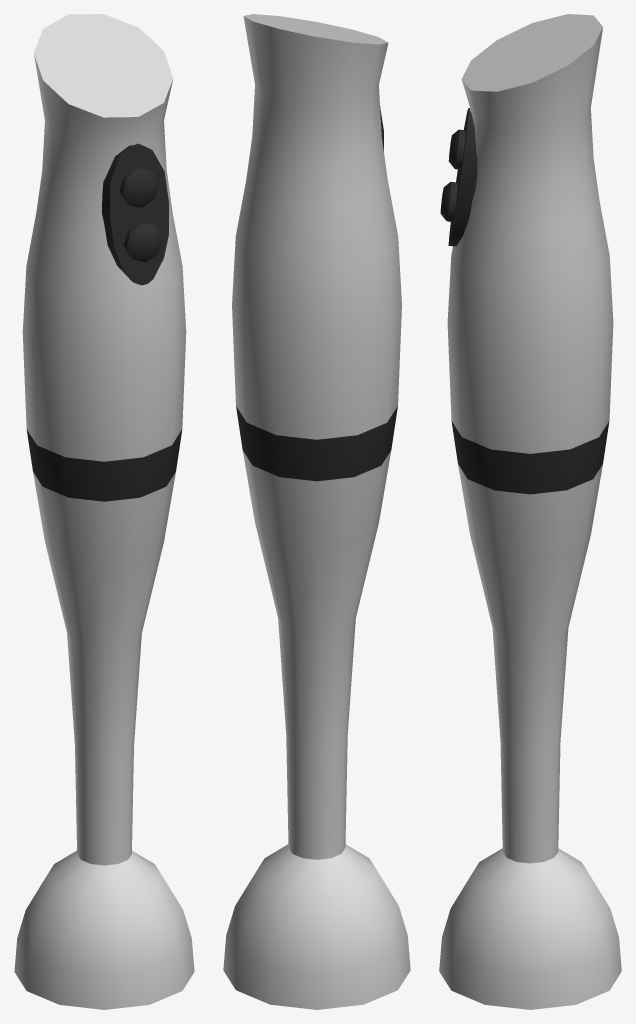
Rendered from HandBlender_01.fbx.
The picture shows the model from 3 angles, left to right: view 1: azimuth 30°, elevation 25°; view 2: azimuth 150°, elevation 25°; view 3: azimuth 270°, elevation 25°; orthographic projection. The views are drawn at different scales.
Visible parts, largest first — view 1: HandBlender_01; view 2: HandBlender_01; view 3: HandBlender_01.
Boxes of the visible parts, left/top/right/bottom form: HandBlender_01: left=14, top=14, right=194, bottom=1009; HandBlender_01: left=223, top=14, right=410, bottom=1009; HandBlender_01: left=439, top=14, right=621, bottom=1009.
Size of the model in its own units: 0.0682 by 0.389 by 0.0682.
